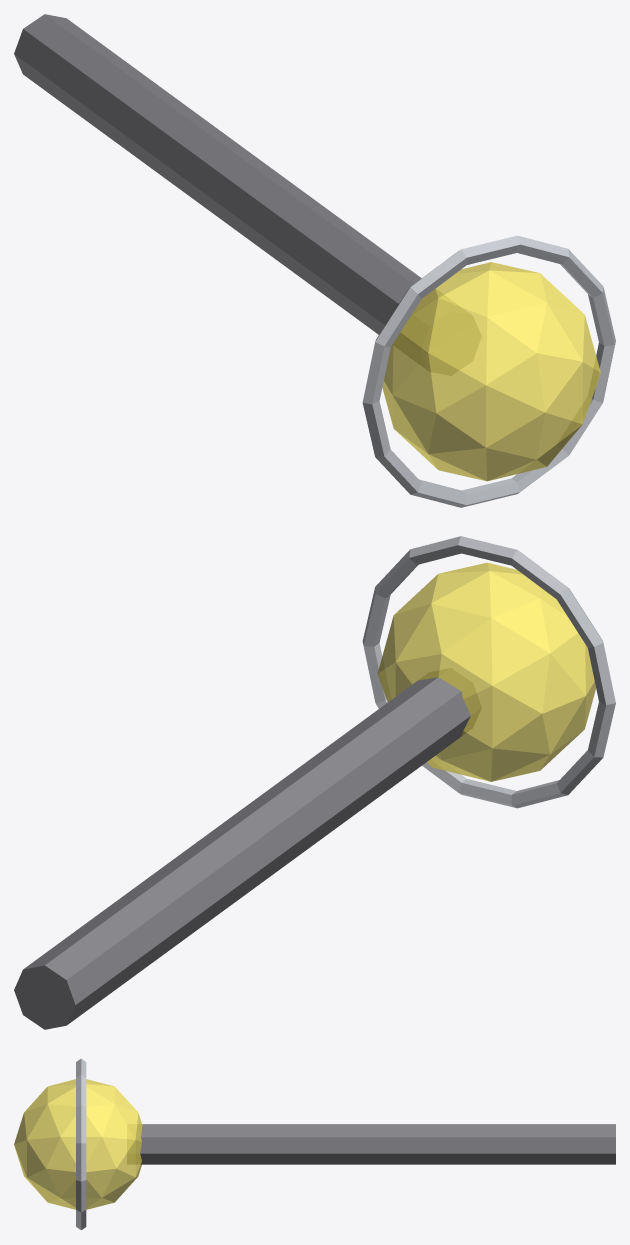
File: crystal_lamp_blue.glb
3 views of the same model, one above another, from view 1: azimuth 30°, elevation 25°; view 2: azimuth 150°, elevation 25°; view 3: azimuth 270°, elevation 25° (orthographic). The views are drawn at different scales.
Visible parts, largest first — view 1: light_orb, post, lamp_cage; view 2: post, light_orb, lamp_cage; view 3: post, light_orb, lamp_cage.
Boxes of the visible parts, x1,y1,x2,y2 form: light_orb: [382, 262, 600, 481]; post: [14, 14, 421, 334]; lamp_cage: [362, 235, 615, 507]; post: [14, 677, 470, 1029]; light_orb: [377, 562, 595, 781]; lamp_cage: [362, 536, 615, 808]; post: [140, 1124, 615, 1164]; light_orb: [14, 1079, 142, 1209]; lamp_cage: [76, 1058, 86, 1230].
Size of the model in its own units: 0.576 by 0.5616 by 1.97.
